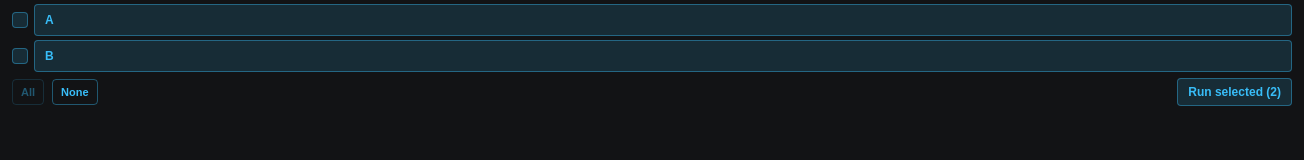
Test: SuggestedActionList batch selection › None/All toggle the selected count
The image size is (1304, 160).
Click the button "None" at coordinates (75, 92), box x1=52 y1=79 x2=98 y2=105
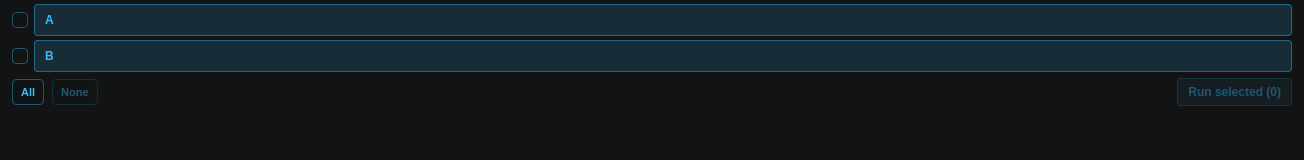
Check: the button "Run selected (0)" is disabled, box x1=1177 y1=78 x2=1292 y2=106
Click the button "All" at coordinates (28, 92), box x1=12 y1=79 x2=44 y2=105
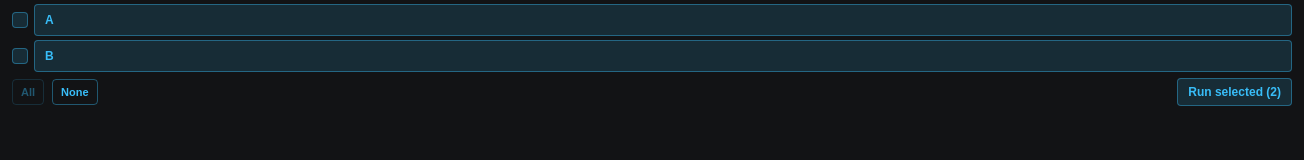
Check: the button "Run selected (2)" is shown, box x1=1177 y1=78 x2=1292 y2=106
